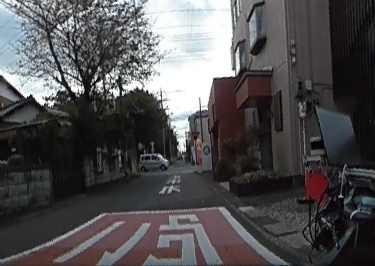person: (361, 75, 375, 266)
